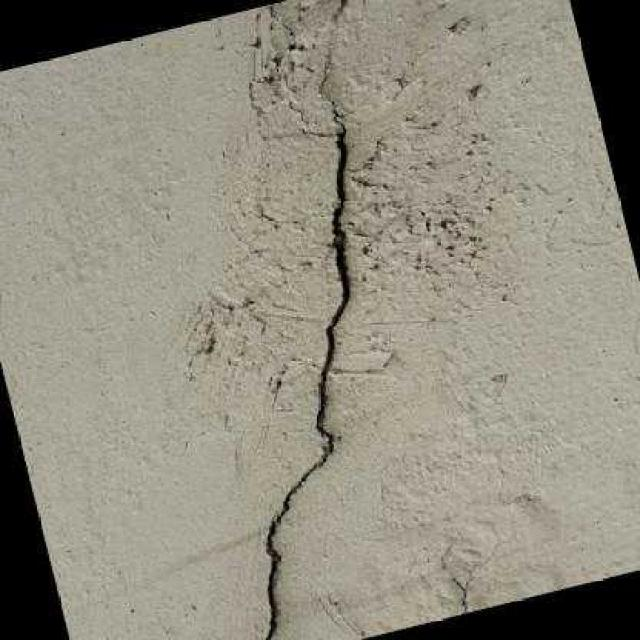D00: (263, 129, 351, 640)
